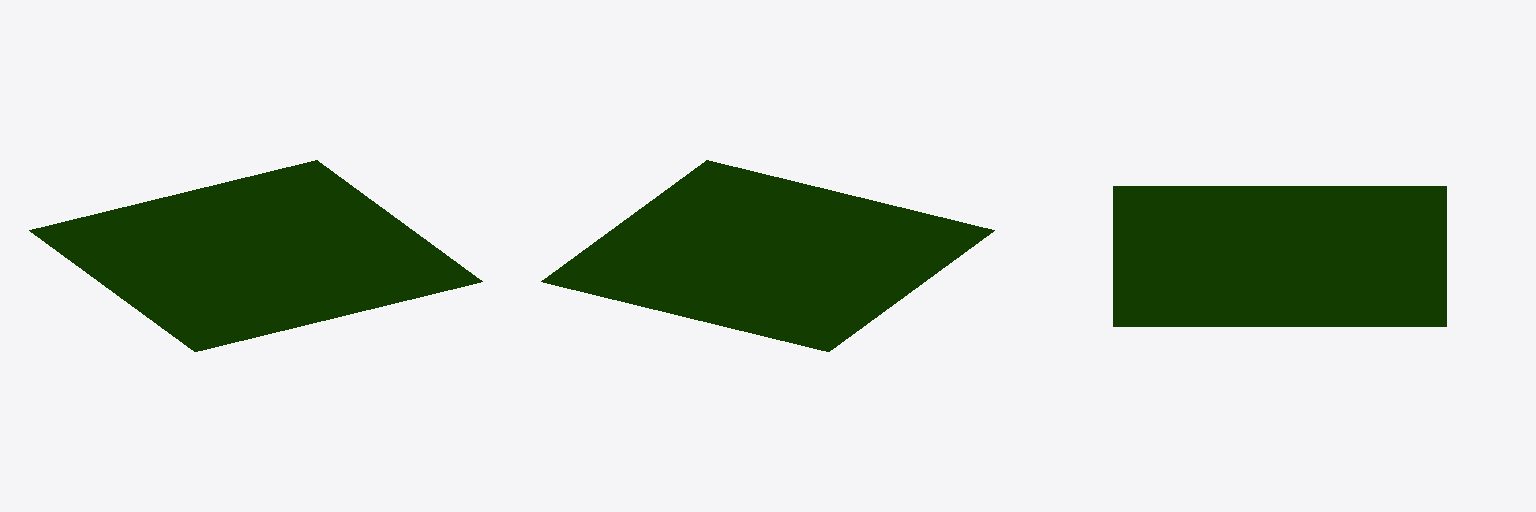
Rendered from barrel.obj.
3 views of the same model, side by side, from view 1: azimuth 30°, elevation 25°; view 2: azimuth 150°, elevation 25°; view 3: azimuth 270°, elevation 25° (orthographic).
Visible parts, largest first — view 1: 平面; view 2: 平面; view 3: 平面.
Boxes of the visible parts, <box> form: 平面: <box>29,160,482,351</box>; 平面: <box>541,160,994,351</box>; 平面: <box>1113,186,1446,326</box>.
Size of the model in its own units: 2002 by 2.52 by 2002.